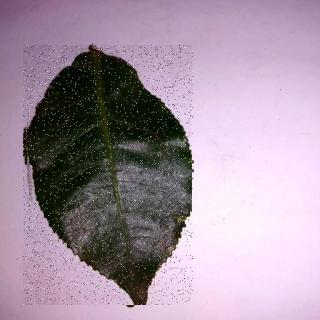Bird Eye Spot: (25, 46, 195, 306)
